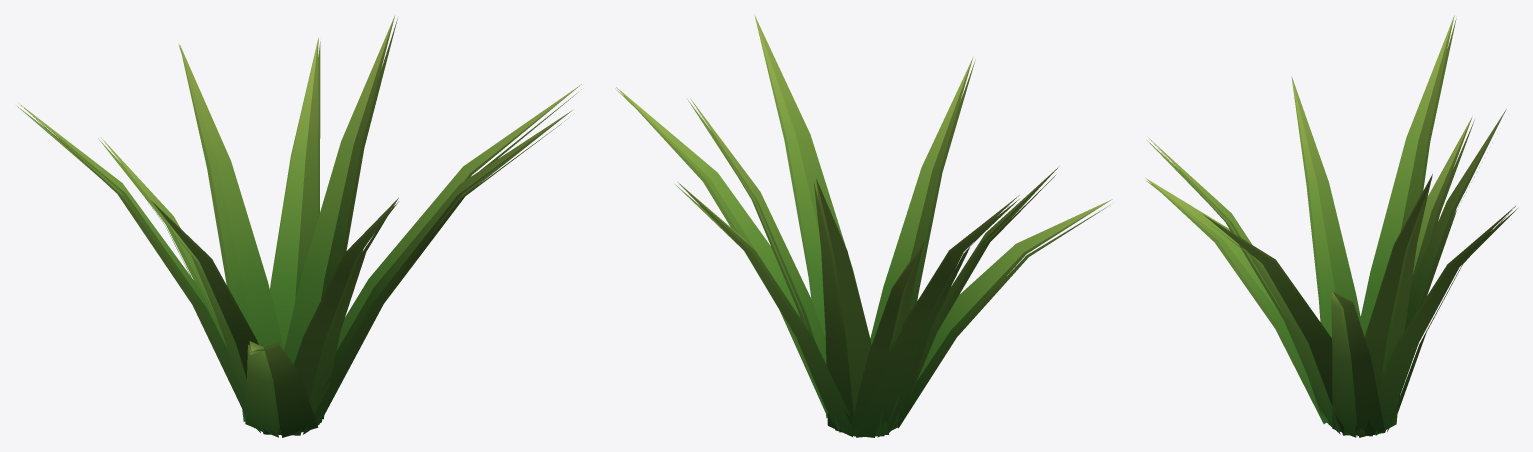
The model's file is grass_tuft.glb.
3 views of the same model, side by side, from view 1: azimuth 30°, elevation 25°; view 2: azimuth 150°, elevation 25°; view 3: azimuth 270°, elevation 25° (orthographic). The views are drawn at different scales.
Visible parts, largest first — view 1: grass_tuft_mesh; view 2: grass_tuft_mesh; view 3: grass_tuft_mesh.
Part boxes in pixels (bbox=[...]): grass_tuft_mesh: bbox=[16, 16, 581, 437]; grass_tuft_mesh: bbox=[615, 15, 1112, 437]; grass_tuft_mesh: bbox=[1145, 15, 1517, 437].
Size of the model in its own units: 0.5586 by 0.3653 by 0.3882.
